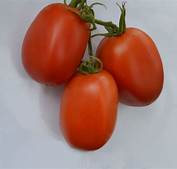tomato: (61, 70, 119, 151)
